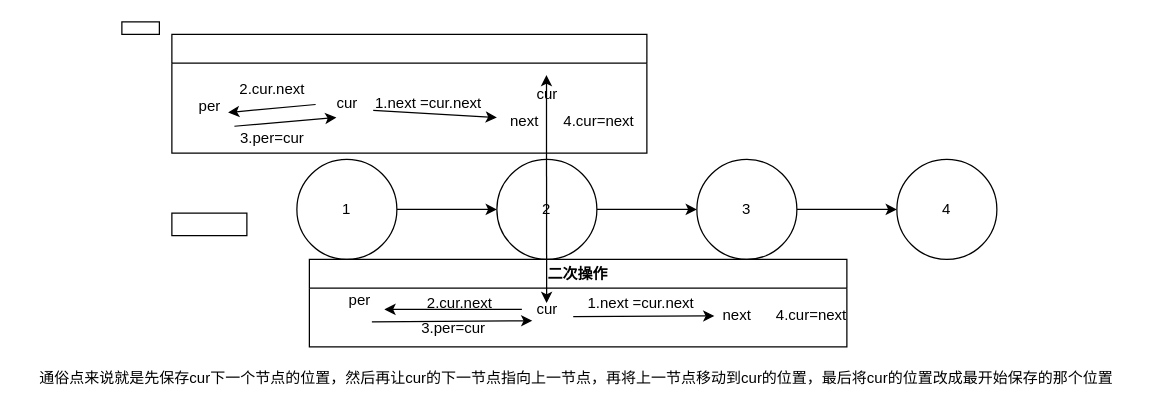
Some shapes in this 1155 by 419 pixel diagram are drawn without their labels. The box of each missing label's shape, as (x1, y1, x2, y2) in pixels:
null: (171, 212, 247, 236)
一次操作: (171, 33, 647, 153)
